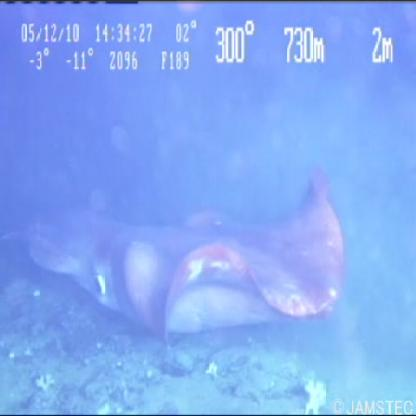Bio: (1, 160, 349, 354)
